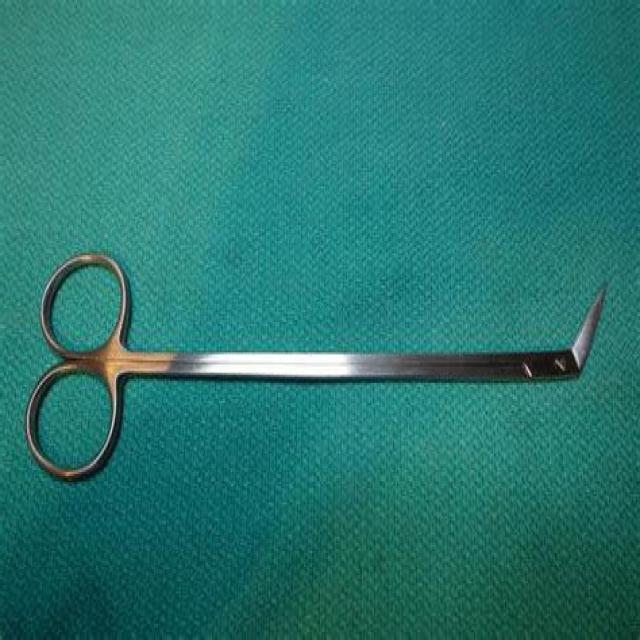Potts: (22, 243, 610, 488)
